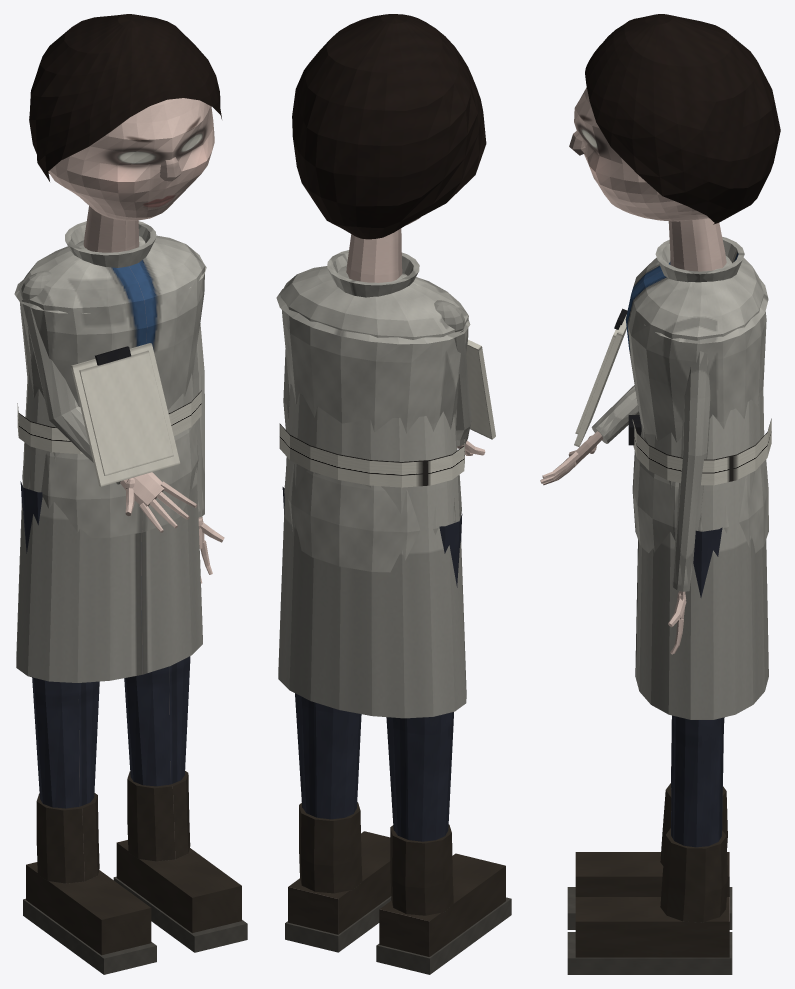
File: fig_1.glb
3 views of the same model, side by side, from view 1: azimuth 30°, elevation 25°; view 2: azimuth 150°, elevation 25°; view 3: azimuth 270°, elevation 25° (orthographic).
Visible parts, largest first — view 1: figure; view 2: figure; view 3: figure.
Part boxes in pixels (x1=…): figure: x1=14, y1=14, x2=247, y2=974; figure: x1=276, y1=14, x2=511, y2=974; figure: x1=540, y1=14, x2=780, y2=974.
Size of the model in its own units: 0.4479 by 2.04 by 0.4824.
2 materials, 2 textured.
